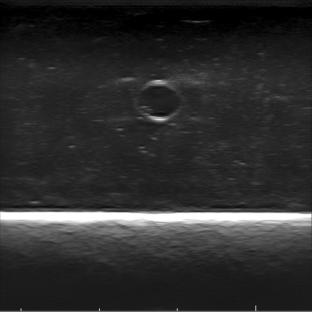vessel: (133, 79, 182, 122)
